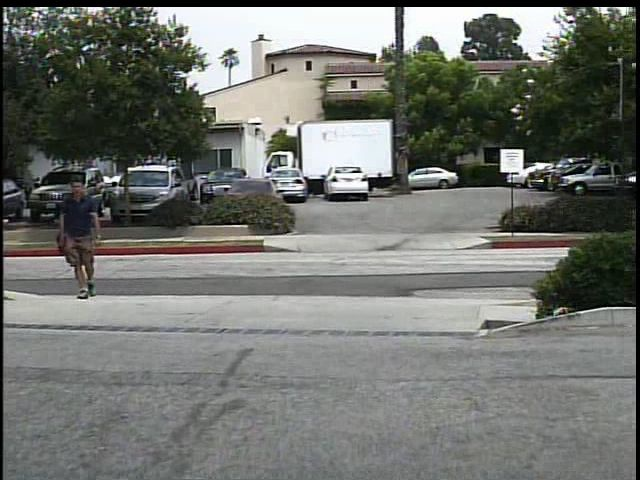person: (56, 177, 108, 301)
